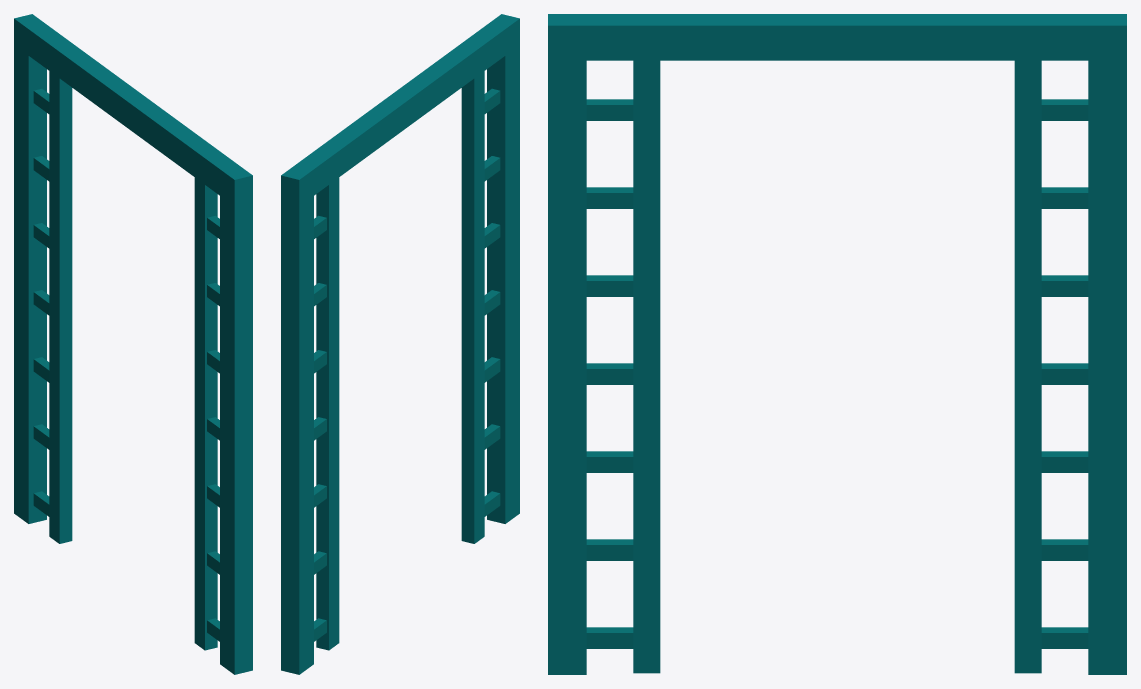
The model's file is Fence_1_C_1.fbx.
3 views of the same model, side by side, from view 1: azimuth 30°, elevation 25°; view 2: azimuth 150°, elevation 25°; view 3: azimuth 270°, elevation 25° (orthographic). The views are drawn at different scales.
Parts seen in each view (by area): view 1: Fence_1_C_1; view 2: Fence_1_C_1; view 3: Fence_1_C_1.
Boxes of the visible parts, x1,y1,x2,y2 form: Fence_1_C_1: (14, 14, 252, 674); Fence_1_C_1: (281, 14, 519, 674); Fence_1_C_1: (548, 14, 1126, 674).
Bounding box in the file's own units: 9.6 × 248 × 200.
